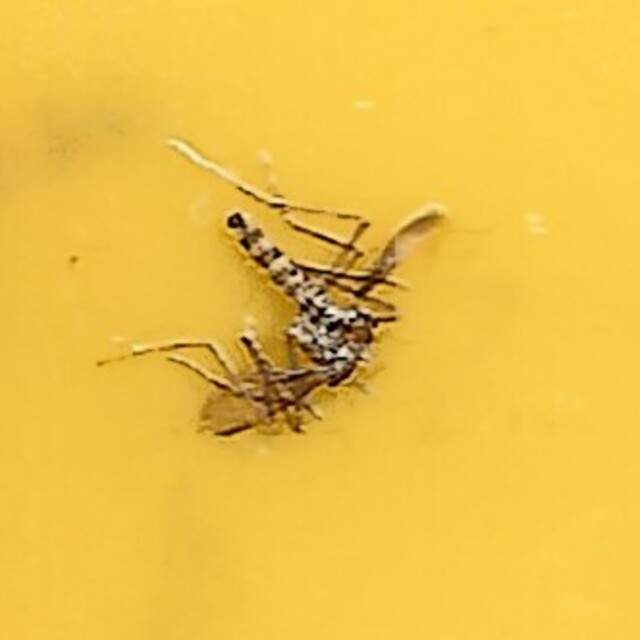Nematocera: (193, 195, 447, 445)
